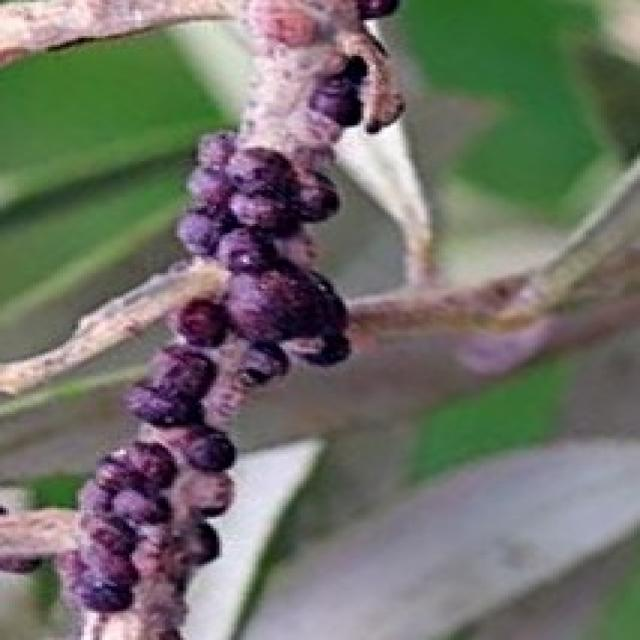BlackScale: (171, 255, 358, 421), (171, 130, 347, 264), (60, 441, 174, 611), (182, 427, 243, 569), (126, 344, 222, 432)
